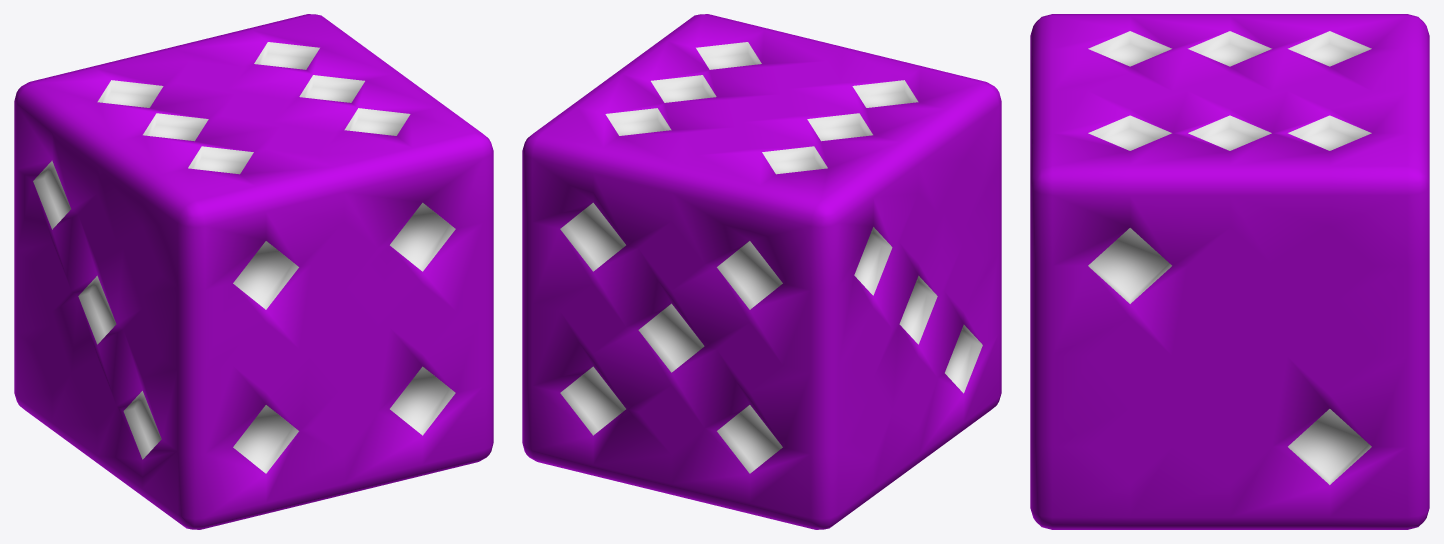
The model's file is Metal Dice.glb.
The picture shows the model from 3 angles, left to right: view 1: azimuth 30°, elevation 25°; view 2: azimuth 150°, elevation 25°; view 3: azimuth 270°, elevation 25°; orthographic projection. The views are drawn at different scales.
Visible parts, largest first — view 1: Cube; view 2: Cube; view 3: Cube.
Part boxes in pixels (x1,y1,x2,y2): Cube: (14,14,493,529); Cube: (522,14,1001,529); Cube: (1030,14,1429,529).
Size of the model in its own units: 2 by 2 by 2.
